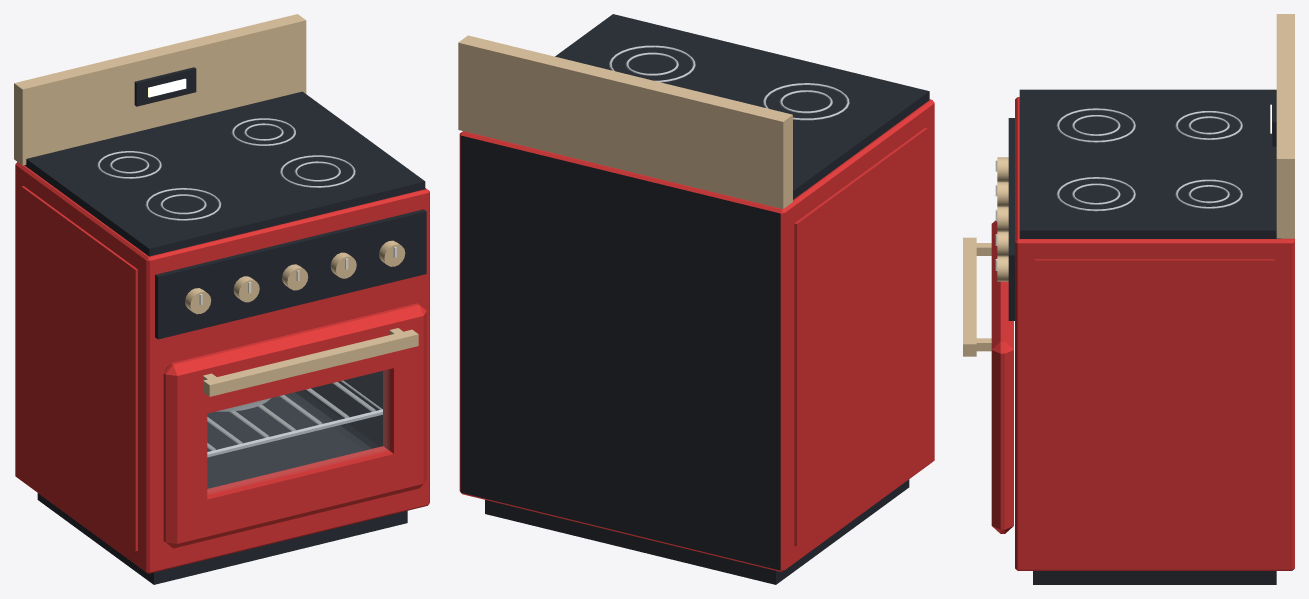
Rendered from forno-moderna.glb.
3 views of the same model, side by side, from view 1: azimuth 30°, elevation 25°; view 2: azimuth 150°, elevation 25°; view 3: azimuth 270°, elevation 25° (orthographic). The views are drawn at different scales.
Visible parts, largest first — view 1: forno, porta; view 2: forno; view 3: forno, porta.
Boxes of the visible parts, bbox=[...] form: forno: bbox=[14, 14, 429, 584]; porta: bbox=[163, 303, 426, 548]; forno: bbox=[458, 14, 934, 584]; forno: bbox=[995, 14, 1294, 584]; porta: bbox=[963, 220, 1013, 533].
Bounding box in the file's own units: 0.772 × 1.06 × 0.735.
